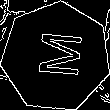M_W: (29, 32, 83, 82)
